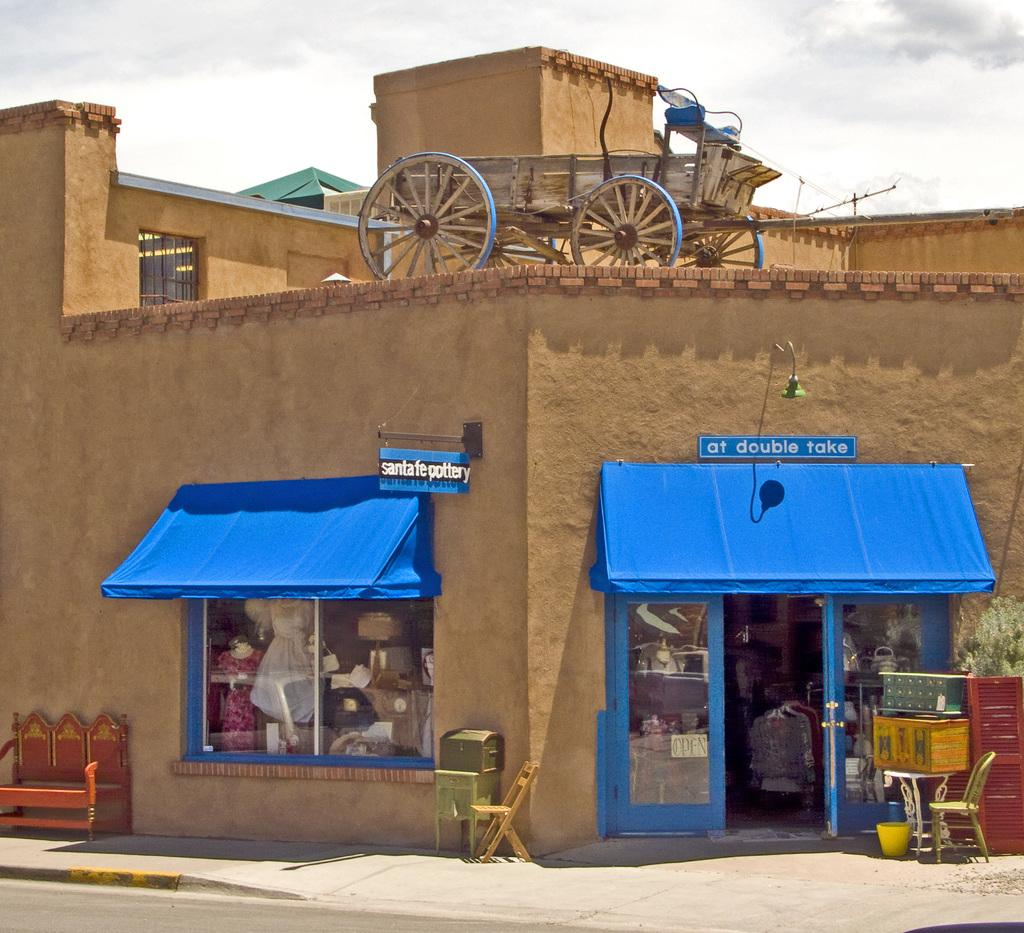Chair: (468, 758, 540, 864), (925, 751, 993, 861)
